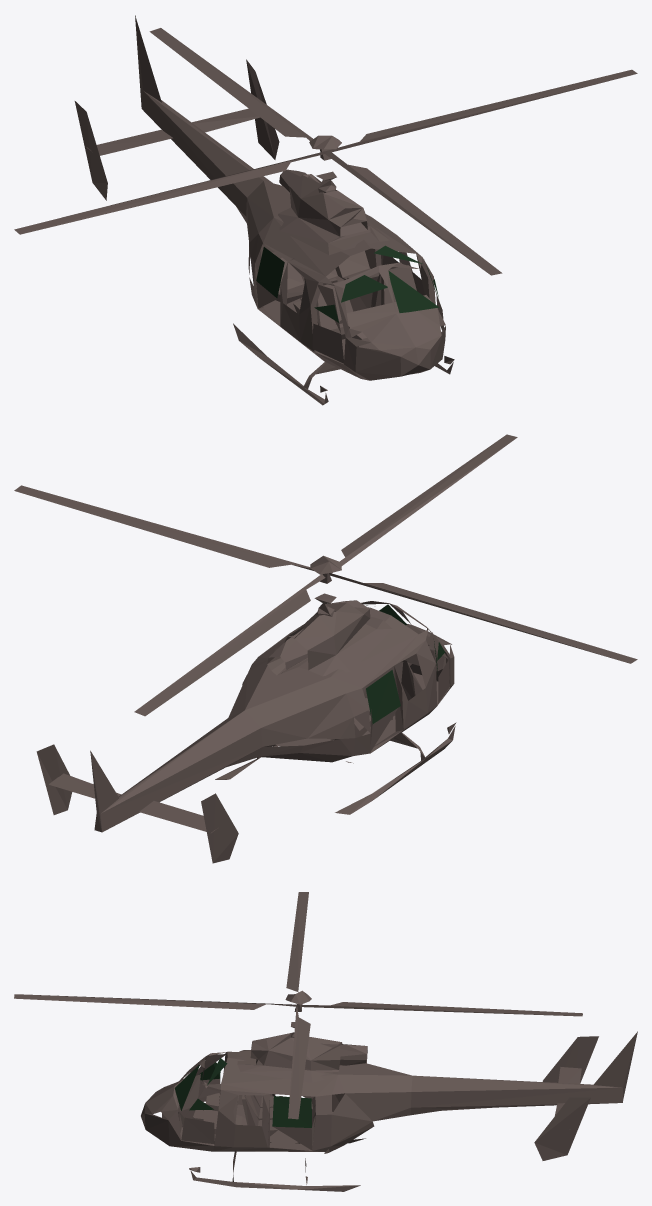
Rendered from heli-ambulance.lod1.glb.
3 views of the same model, one above another, from view 1: azimuth 30°, elevation 25°; view 2: azimuth 150°, elevation 25°; view 3: azimuth 270°, elevation 25° (orthographic). The views are drawn at different scales.
Parts seen in each view (by area): view 1: Object_6; view 2: Object_6; view 3: Object_6.
Part boxes in pixels (x1,y1,x2,y2): Object_6: (14, 15, 637, 405); Object_6: (14, 434, 637, 863); Object_6: (14, 892, 637, 1191).
Size of the model in its own units: 11.37 by 3.84 by 12.49.
